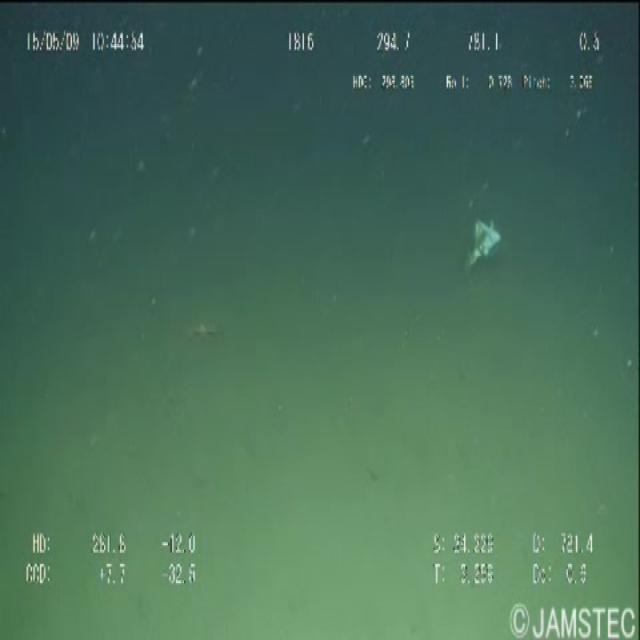Litter: (460, 202, 508, 293)
